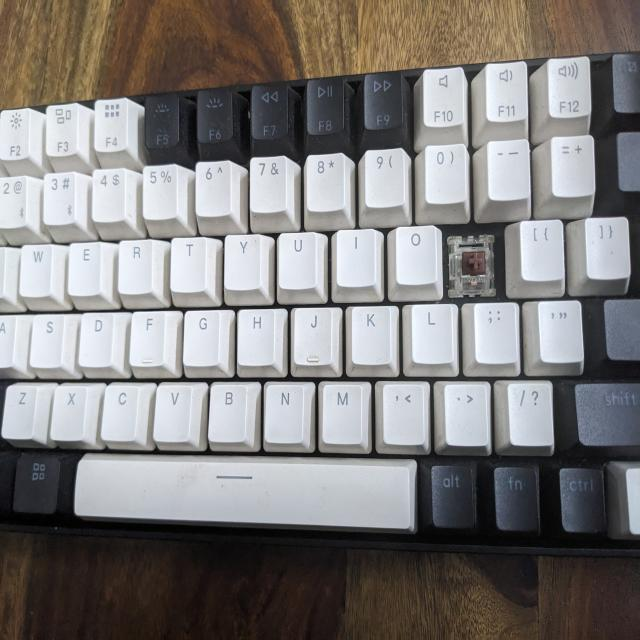C: (448, 233, 494, 293)
